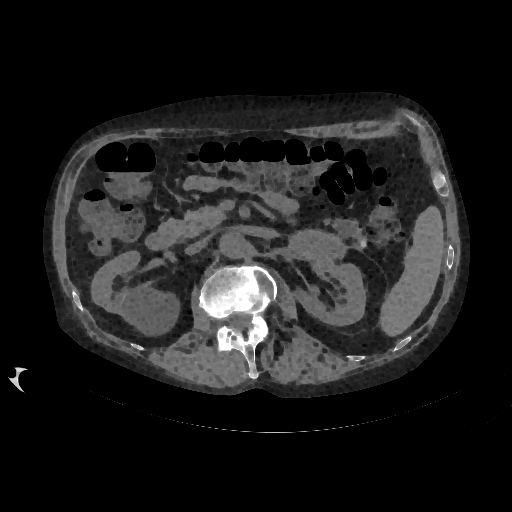Lesion: (289, 226, 347, 264)
